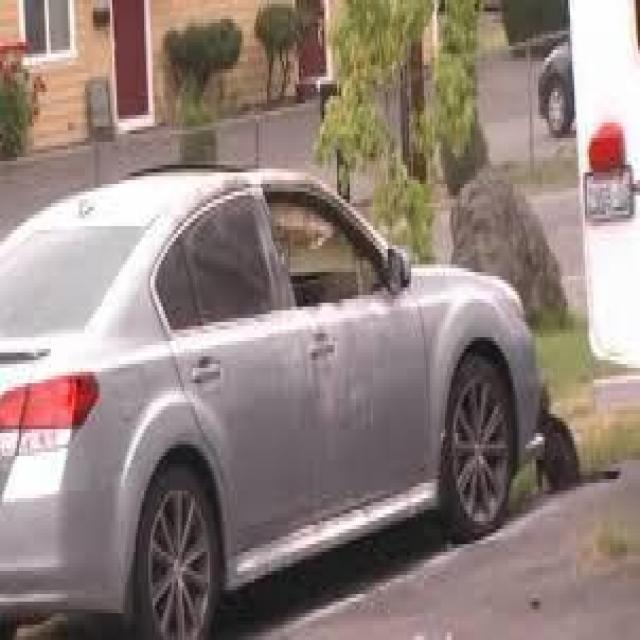damaged: (294, 329, 371, 422)
